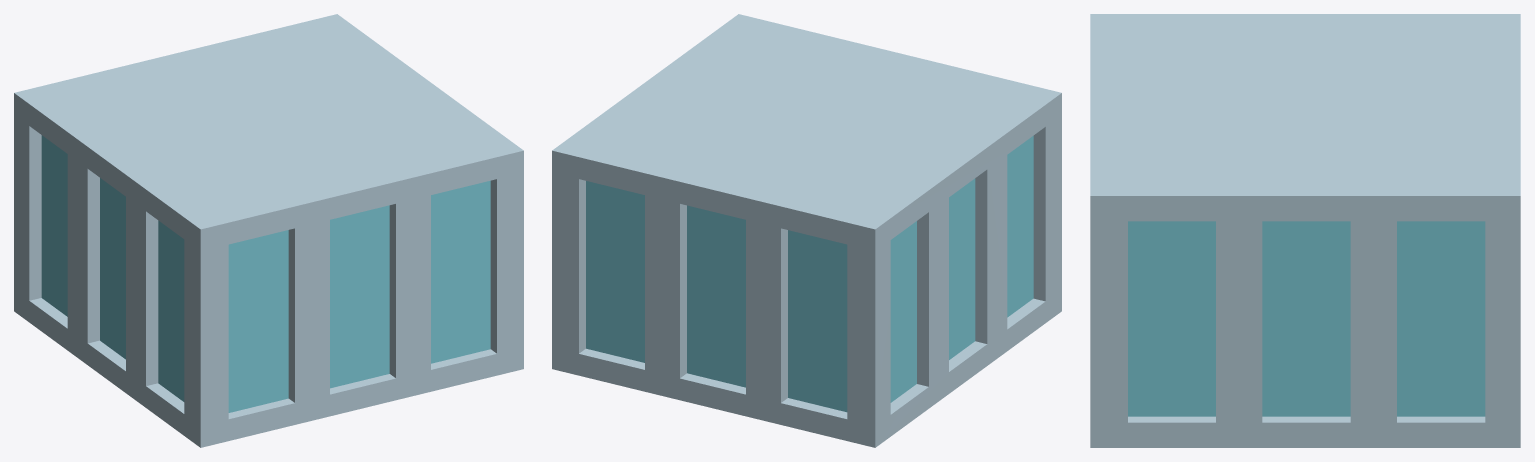
The model's file is SkyScraper3_Middle_02.fbx.
3 renders of one model, left to right at view 1: azimuth 30°, elevation 25°; view 2: azimuth 150°, elevation 25°; view 3: azimuth 270°, elevation 25°, orthographic. The views are drawn at different scales.
Parts seen in each view (by area): view 1: SkyScraper3_Middle_02; view 2: SkyScraper3_Middle_02; view 3: SkyScraper3_Middle_02.
Part boxes in pixels (box(x1,y1,x2,y2)): SkyScraper3_Middle_02: box(14, 14, 523, 447); SkyScraper3_Middle_02: box(552, 14, 1061, 447); SkyScraper3_Middle_02: box(1090, 14, 1520, 447).
Size of the model in its own units: 96 by 62 by 96.
